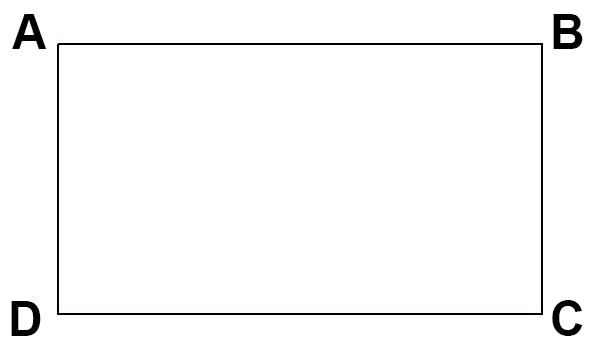rectangulo: (56, 42, 544, 315)
